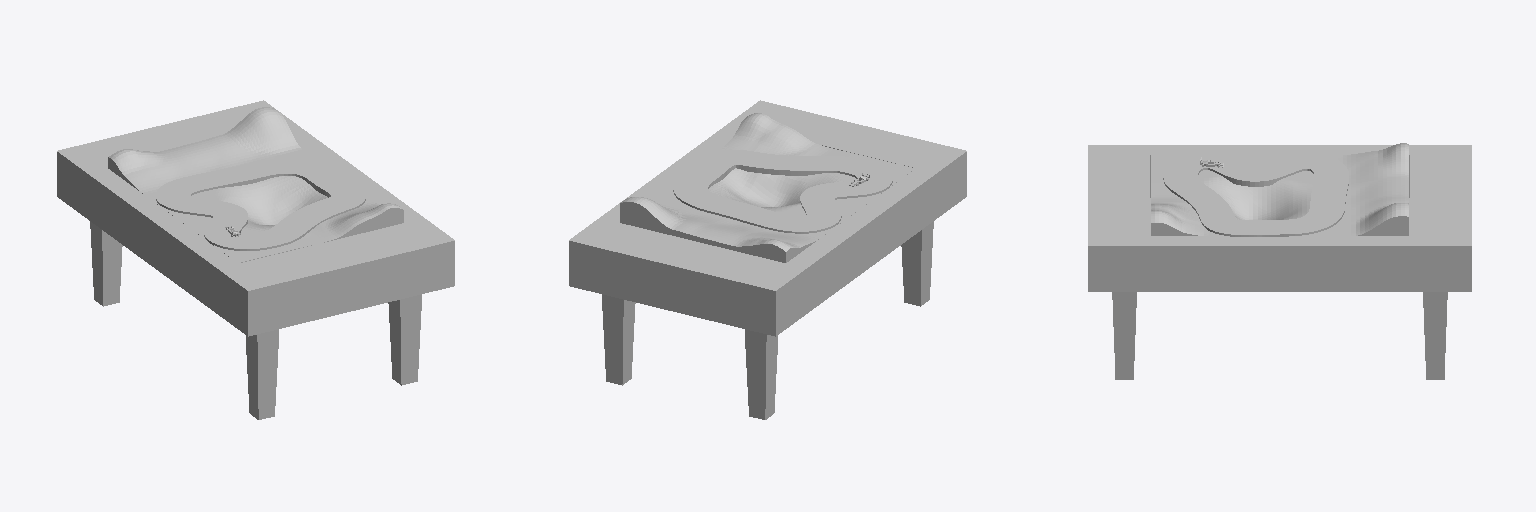
File: NewestTisch67.obj
3 renders of one model, left to right at view 1: azimuth 30°, elevation 25°; view 2: azimuth 150°, elevation 25°; view 3: azimuth 270°, elevation 25°, orthographic.
Parts seen in each view (by area): view 1: Tischplatte_wood_table_001, Landschaft_aerial_grass_rock, off, Bein1_wood_table_001, Bein4_wood_table_001.003, Bein3_wood_table_001.002; view 2: Tischplatte_wood_table_001, Landschaft_aerial_grass_rock, off, Bein2_wood_table_001.001, Bein3_wood_table_001.002, Bein4_wood_table_001.003; view 3: Tischplatte_wood_table_001, Landschaft_aerial_grass_rock, off, Bein1_wood_table_001, Bein2_wood_table_001.001.
Boxes of the visible parts, <box> form: Tischplatte_wood_table_001: <box>57,100,454,336</box>; Landschaft_aerial_grass_rock: <box>108,107,403,262</box>; off: <box>156,159,365,250</box>; Bein1_wood_table_001: <box>388,294,421,385</box>; Bein4_wood_table_001.003: <box>246,329,278,419</box>; Bein3_wood_table_001.002: <box>90,221,122,306</box>; Tischplatte_wood_table_001: <box>569,100,966,336</box>; Landschaft_aerial_grass_rock: <box>620,113,915,262</box>; off: <box>673,150,892,233</box>; Bein2_wood_table_001.001: <box>602,294,635,385</box>; Bein3_wood_table_001.002: <box>745,329,777,419</box>; Bein4_wood_table_001.003: <box>901,221,933,306</box>; Tischplatte_wood_table_001: <box>1088,145,1471,291</box>; Landschaft_aerial_grass_rock: <box>1151,143,1408,235</box>; off: <box>1163,153,1348,236</box>; Bein1_wood_table_001: <box>1112,292,1136,379</box>; Bein2_wood_table_001.001: <box>1423,292,1447,379</box>.
Size of the model in its own units: 5 by 3.91 by 8.